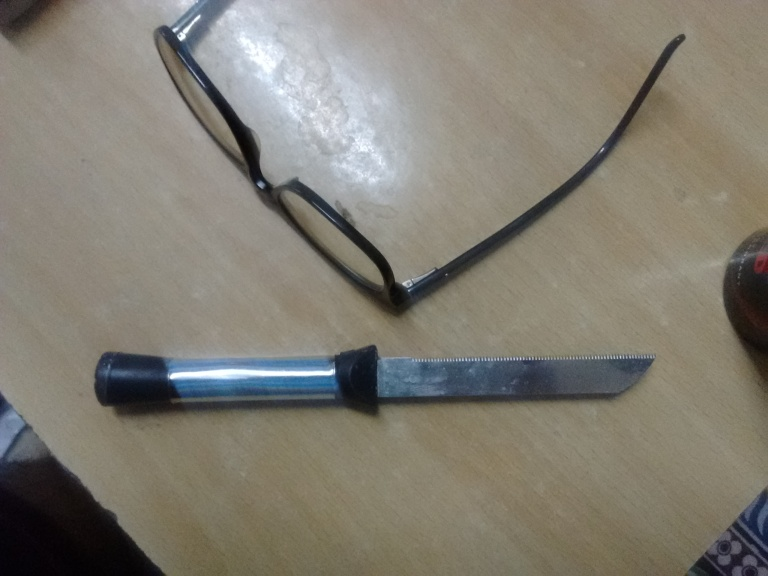knife: (86, 340, 657, 413)
